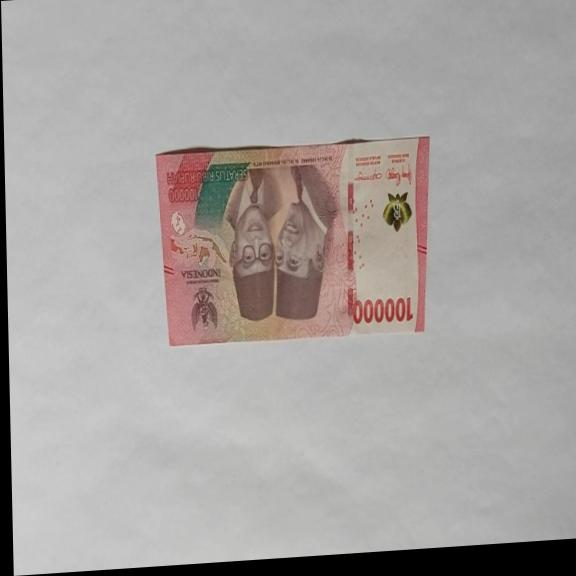Kertas: (154, 132, 434, 352), (352, 293, 413, 328)
